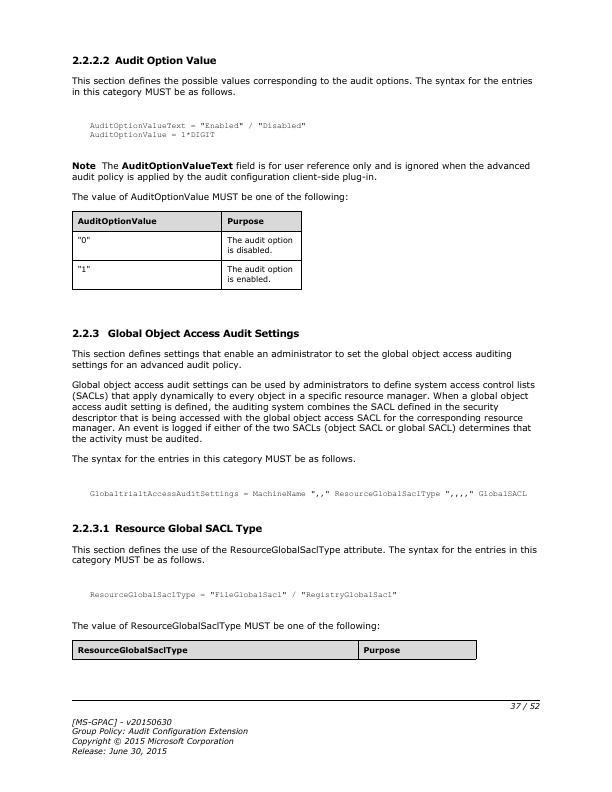table: (72, 211, 304, 291), (70, 638, 478, 662)
text: (69, 377, 539, 445), (69, 72, 534, 98), (68, 158, 533, 182), (70, 347, 514, 372), (69, 544, 541, 566), (68, 714, 251, 757), (84, 487, 530, 501), (84, 117, 310, 141), (69, 617, 384, 634), (69, 452, 358, 467), (86, 588, 401, 600), (71, 189, 350, 202), (69, 327, 302, 342), (71, 522, 265, 538), (70, 53, 217, 67)
